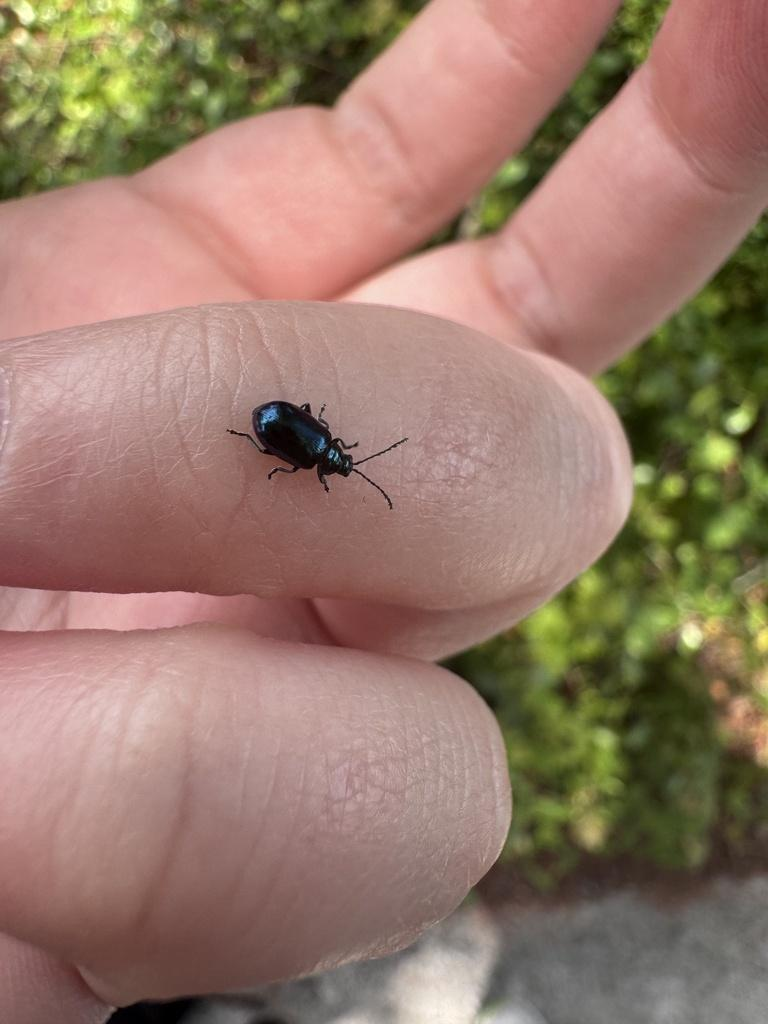flea_beetle: (213, 344, 435, 554)
